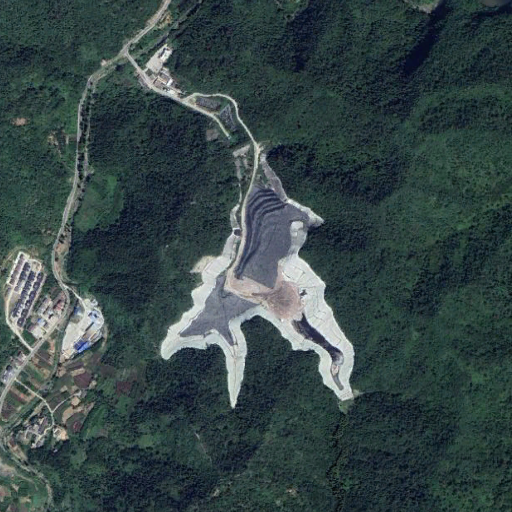lf: (161, 190, 355, 408)
